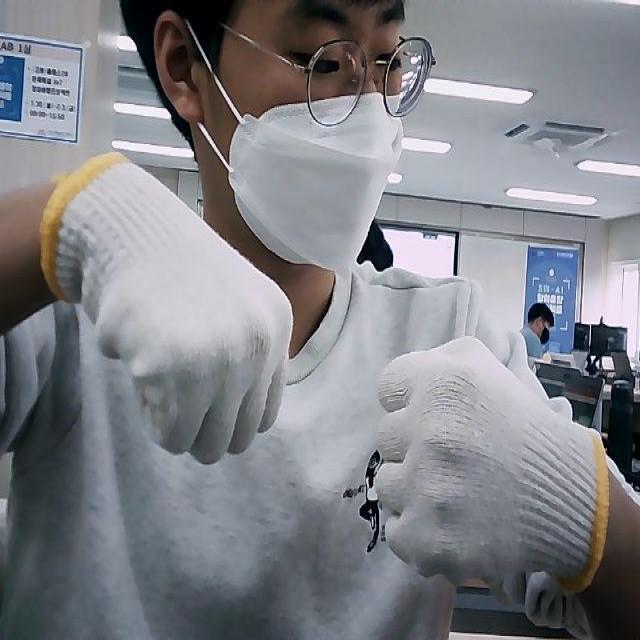gloves: (39, 149, 293, 463), (378, 334, 610, 591)
